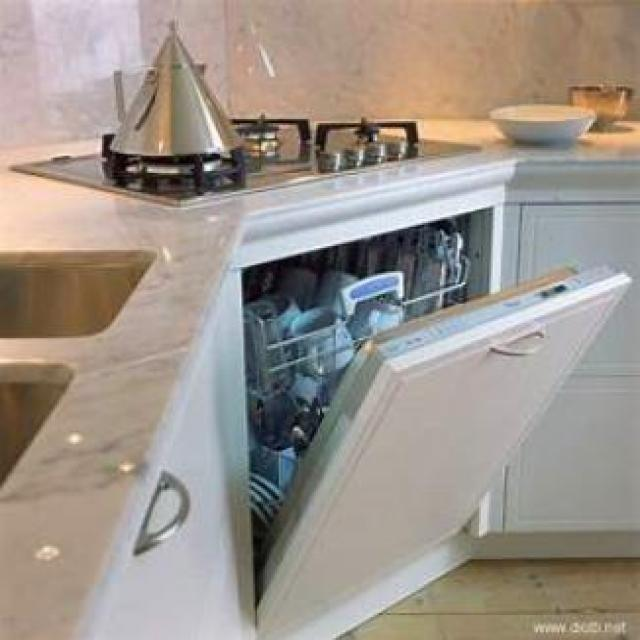dishwasher: (240, 173, 630, 636)
